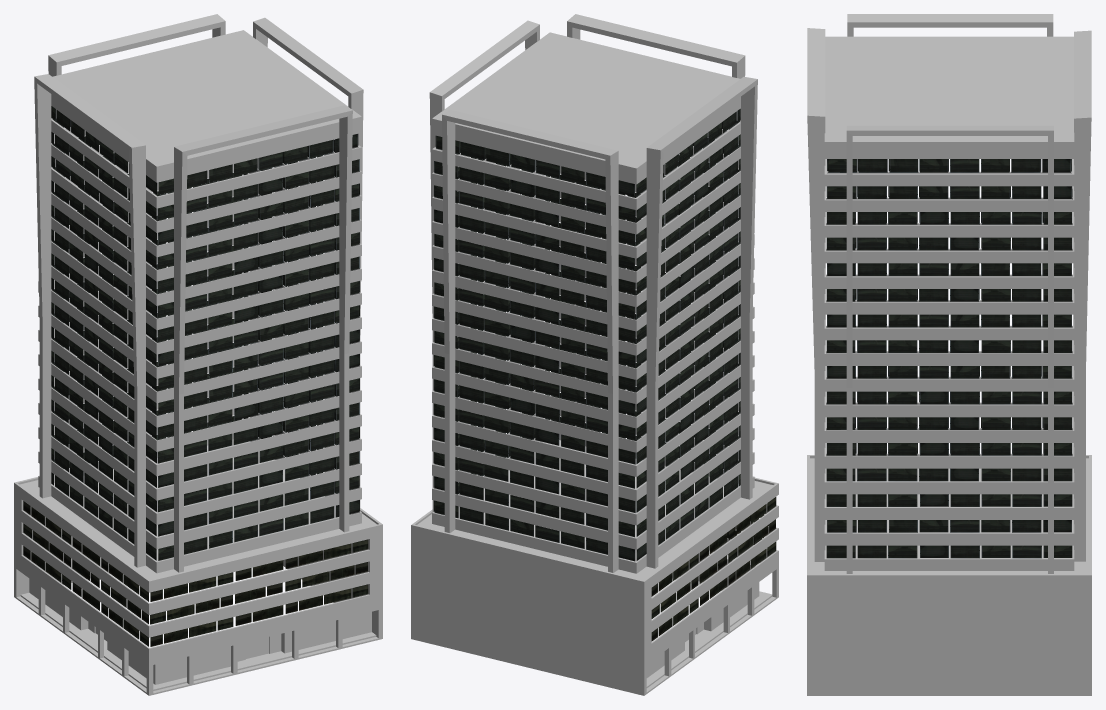
The picture shows the model from 3 angles, left to right: view 1: azimuth 30°, elevation 25°; view 2: azimuth 150°, elevation 25°; view 3: azimuth 270°, elevation 25°; orthographic projection. The views are drawn at different scales.
Visible parts, largest first — view 1: EC-005; view 2: EC-005; view 3: EC-005.
Part boxes in pixels (x1,y1,x2,y2): EC-005: (14, 14, 382, 695); EC-005: (411, 14, 778, 695); EC-005: (807, 14, 1091, 695).
Size of what is drawn, in the model's own units: 36 by 78.8 by 36.
